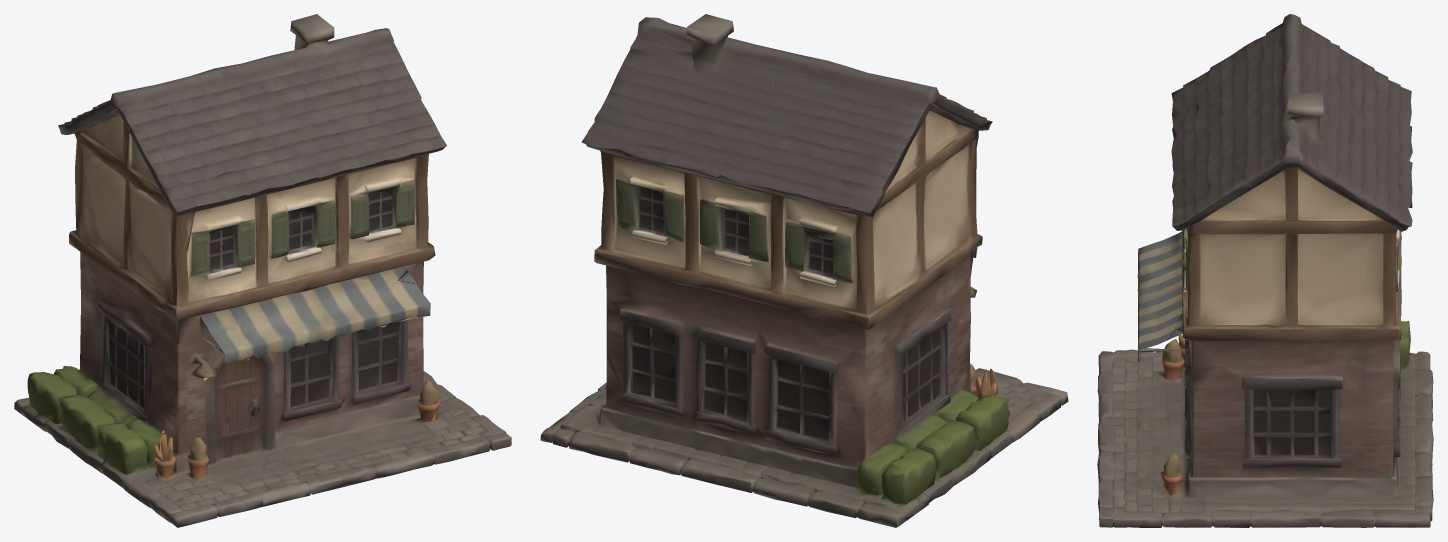
Rendered from journey_building.glb.
3 renders of one model, left to right at view 1: azimuth 30°, elevation 25°; view 2: azimuth 150°, elevation 25°; view 3: azimuth 270°, elevation 25°, orthographic. The views are drawn at different scales.
Visible parts, largest first — view 1: tripo_node_9fc0a3fb-2897-4571-8571-f18888638019; view 2: tripo_node_9fc0a3fb-2897-4571-8571-f18888638019; view 3: tripo_node_9fc0a3fb-2897-4571-8571-f18888638019.
Boxes of the visible parts, x1,y1,x2,y2 form: tripo_node_9fc0a3fb-2897-4571-8571-f18888638019: (14, 14, 511, 527); tripo_node_9fc0a3fb-2897-4571-8571-f18888638019: (540, 14, 1068, 527); tripo_node_9fc0a3fb-2897-4571-8571-f18888638019: (1097, 14, 1433, 527).
Bounding box in the file's own units: 0.9525 × 1 × 0.8022.
Materials: 1 (1 with a texture image).
